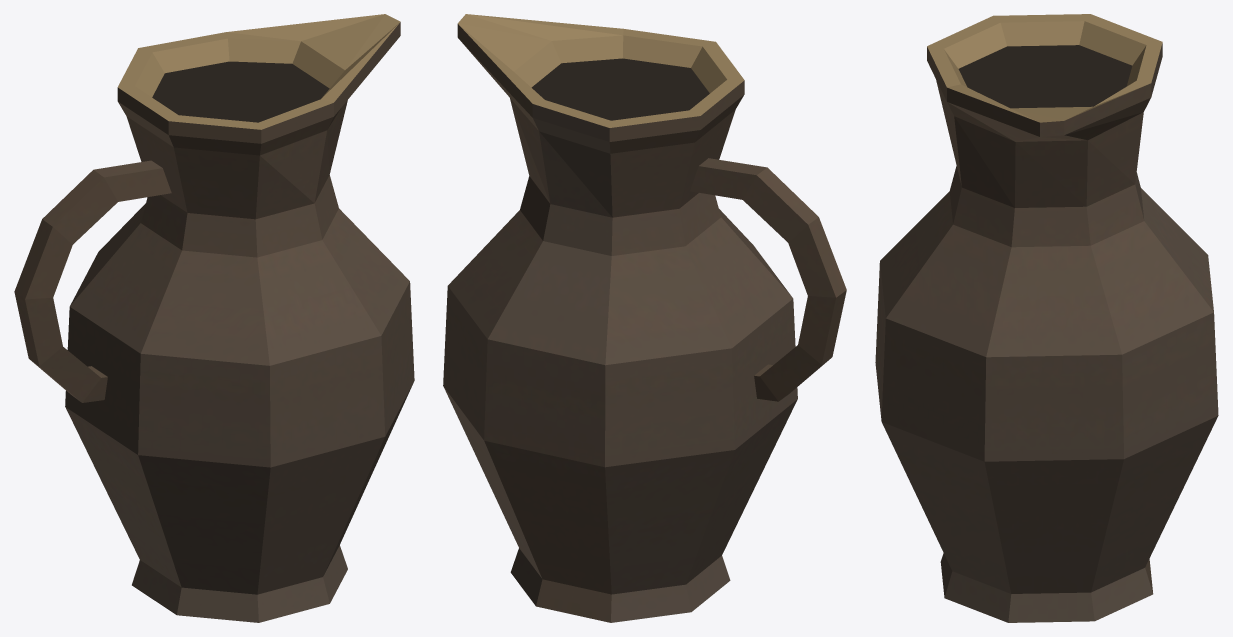
The model's file is Jug_1.fbx.
The picture shows the model from 3 angles, left to right: view 1: azimuth 30°, elevation 25°; view 2: azimuth 150°, elevation 25°; view 3: azimuth 270°, elevation 25°; orthographic projection. The views are drawn at different scales.
Visible parts, largest first — view 1: polySurface1517; view 2: polySurface1517; view 3: polySurface1517.
Part boxes in pixels (left/top/right/bottom): polySurface1517: left=14, top=14, right=414, bottom=622; polySurface1517: left=443, top=14, right=846, bottom=622; polySurface1517: left=875, top=14, right=1218, bottom=622.
Size of the model in its own units: 33.71 by 44.32 by 25.78.
